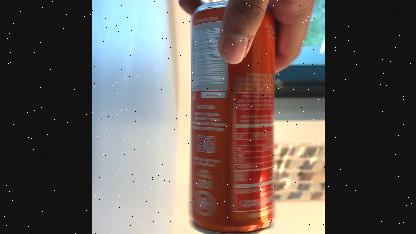Can: (188, 1, 273, 234)
